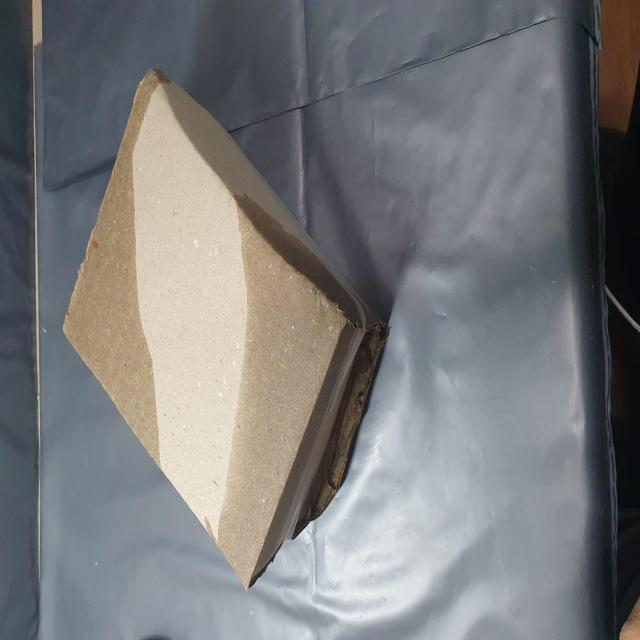wet: (32, 112, 309, 640)
